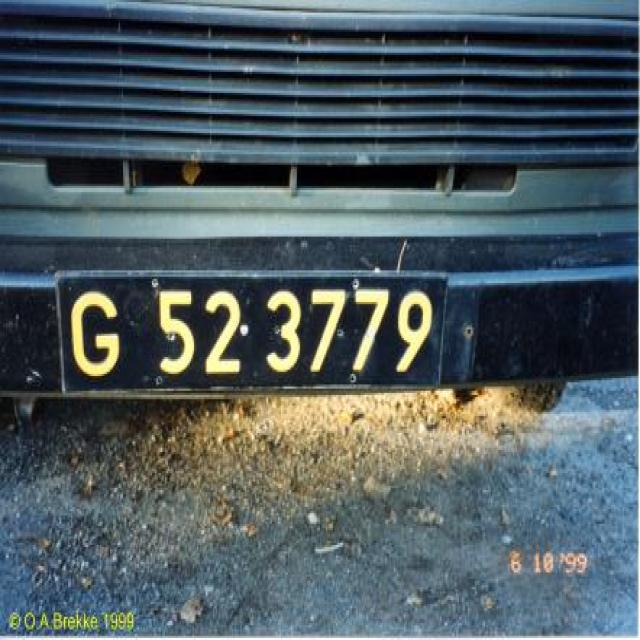pl_license_plate: (58, 272, 440, 384)
